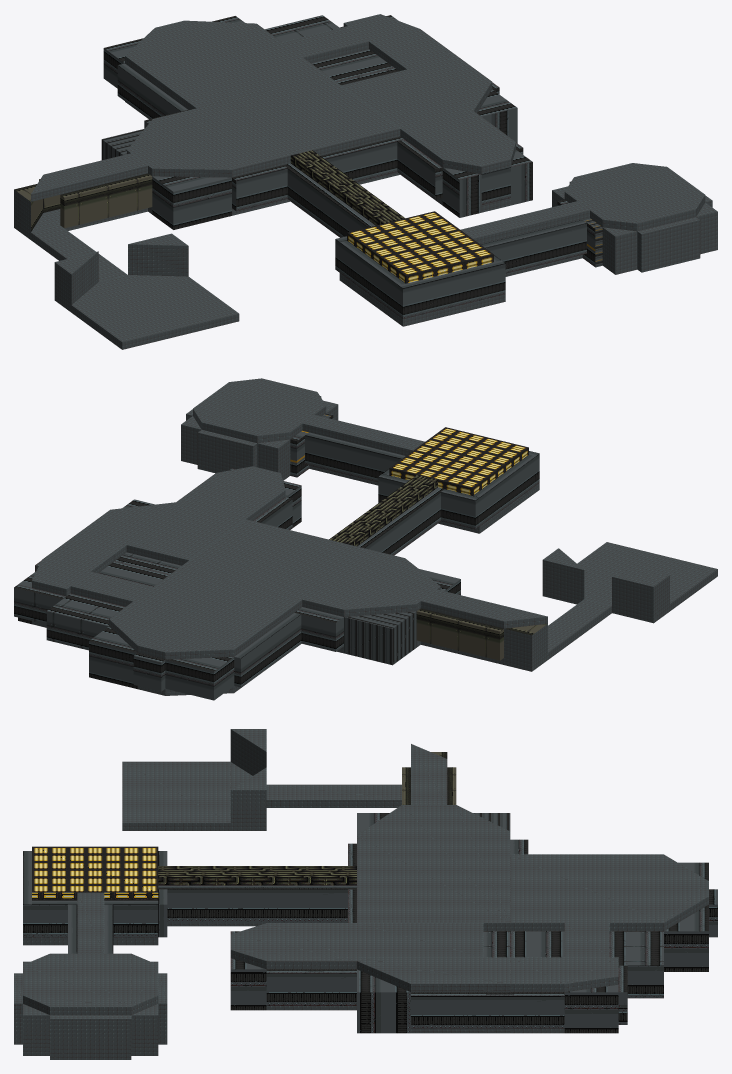
File: Map1.obj
The picture shows the model from 3 angles, top to bottom: view 1: azimuth 30°, elevation 25°; view 2: azimuth 150°, elevation 25°; view 3: azimuth 270°, elevation 25°; orthographic projection. The views are drawn at different scales.
Parts seen in each view (by area): view 1: entity0_brush71, entity0_brush77, entity0_brush36, entity0_brush26, entity0_brush5, entity0_brush73, entity0_brush72, entity0_brush0, entity0_brush39, entity0_brush74, entity0_brush31, entity0_brush79 (+29 smaller); view 2: entity0_brush71, entity0_brush77, entity0_brush26, entity0_brush5, entity0_brush36, entity0_brush72, entity0_brush73, entity0_brush34, entity0_brush30, entity0_brush74, entity0_brush80, entity0_brush57 (+27 smaller); view 3: entity0_brush71, entity0_brush77, entity0_brush36, entity0_brush26, entity0_brush11, entity0_brush5, entity0_brush56, entity0_brush73, entity0_brush74, entity0_brush72, entity0_brush10, entity0_brush75 (+26 smaller).
Boxes of the visible parts, <box> form: entity0_brush71: <box>127,76,400,177</box>; entity0_brush77: <box>125,20,328,109</box>; entity0_brush36: <box>71,275,239,349</box>; entity0_brush26: <box>564,163,705,231</box>; entity0_brush5: <box>347,211,493,283</box>; entity0_brush73: <box>400,111,515,174</box>; entity0_brush72: <box>341,69,465,128</box>; entity0_brush0: <box>399,260,505,318</box>; entity0_brush39: <box>152,176,231,229</box>; entity0_brush74: <box>394,47,492,112</box>; entity0_brush31: <box>60,173,152,228</box>; entity0_brush79: <box>481,220,586,273</box>; entity0_brush71: <box>177,519,440,616</box>; entity0_brush77: <box>109,569,302,659</box>; entity0_brush26: <box>193,378,326,443</box>; entity0_brush5: <box>389,427,528,495</box>; entity0_brush36: <box>577,542,717,610</box>; entity0_brush72: <box>126,504,244,565</box>; entity0_brush73: <box>176,466,285,520</box>; entity0_brush34: <box>344,611,416,665</box>; entity0_brush30: <box>416,608,503,660</box>; entity0_brush74: <box>66,502,182,560</box>; entity0_brush80: <box>305,432,405,481</box>; entity0_brush57: <box>46,593,124,650</box>; entity0_brush71: <box>357,805,510,931</box>; entity0_brush77: <box>510,854,708,931</box>; entity0_brush36: <box>122,761,252,830</box>; entity0_brush26: <box>23,953,158,1015</box>; entity0_brush11: <box>158,885,356,921</box>; entity0_brush5: <box>32,846,158,900</box>; entity0_brush56: <box>411,992,564,1028</box>; entity0_brush73: <box>230,923,356,969</box>; entity0_brush74: <box>357,957,510,992</box>; entity0_brush72: <box>357,923,483,957</box>; entity0_brush10: <box>158,866,356,885</box>; entity0_brush75: <box>510,957,618,992</box>.
Size of the model in its own units: 1216 by 96 by 1248.
Materials: 11 (11 with a texture image).
